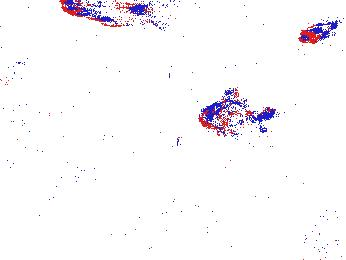X-ray fish: (199, 98, 260, 134)
red belly glassfish: (297, 20, 338, 43)
redtail glassfish: (50, 1, 152, 24)
